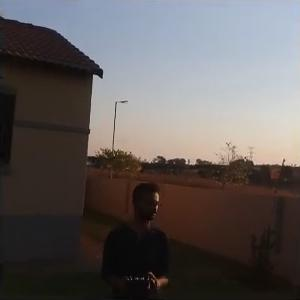follow: (96, 177, 175, 298)
